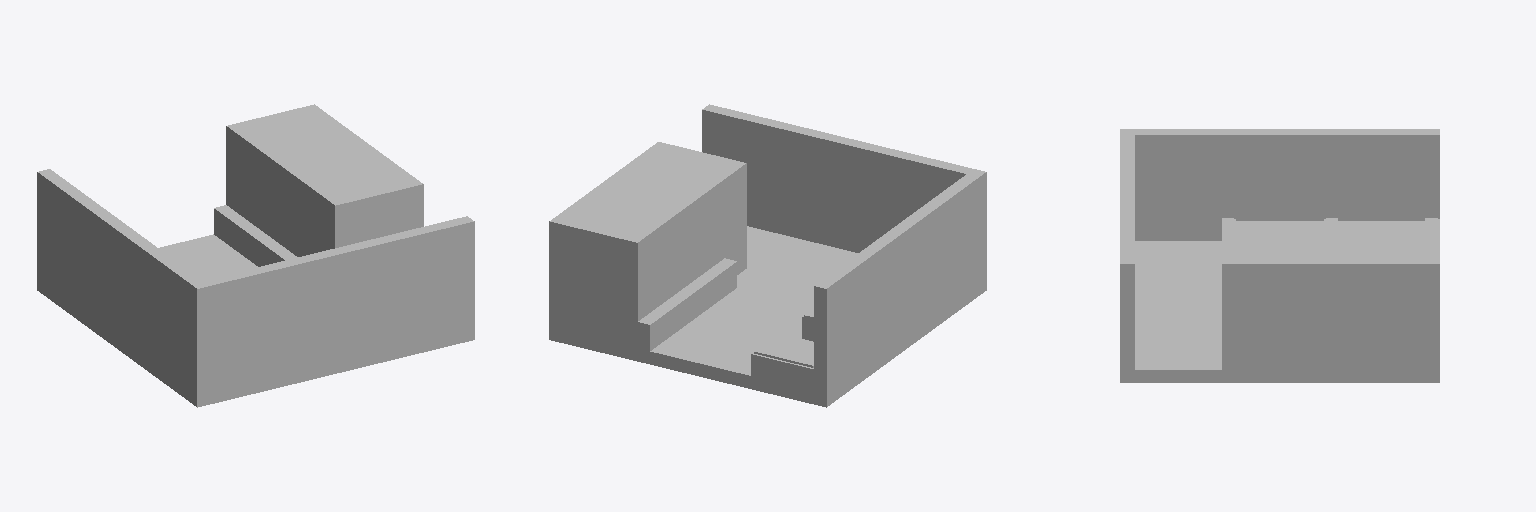
Rendered from unionC.obj.
The picture shows the model from 3 angles: view 1: azimuth 30°, elevation 25°; view 2: azimuth 150°, elevation 25°; view 3: azimuth 270°, elevation 25°; orthographic projection.
Visible parts, largest first — view 1: object 1; view 2: object 1; view 3: object 1.
Boxes of the visible parts, x1,y1,x2,y2 form: object 1: [37, 104, 474, 407]; object 1: [549, 104, 986, 407]; object 1: [1120, 129, 1439, 382].
Bounding box in the file's own units: 13.2 × 5.4 × 13.2.